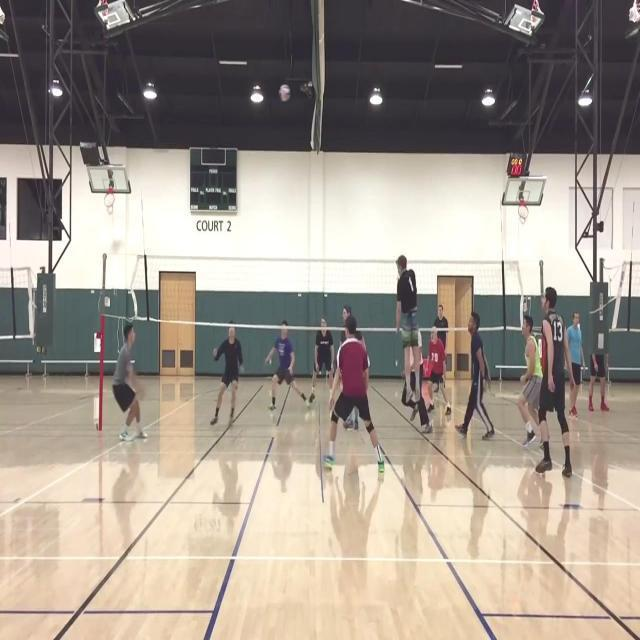volleyball: (278, 85, 292, 102)
